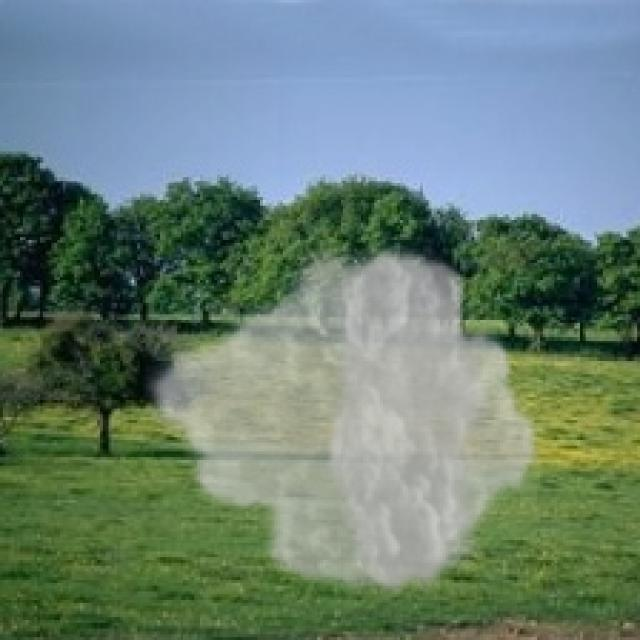smoke: (143, 237, 543, 603)
